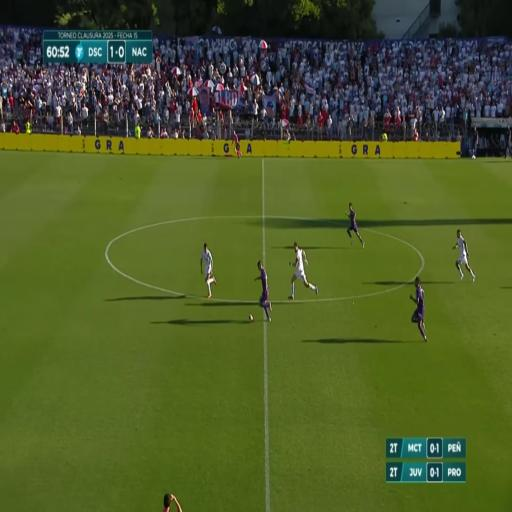Ball: (248, 312, 254, 322)
Player: (292, 240, 310, 298), (256, 256, 272, 320), (413, 276, 427, 344), (200, 243, 216, 301), (455, 226, 469, 284), (346, 199, 360, 238)
Referee: (233, 131, 240, 159)
